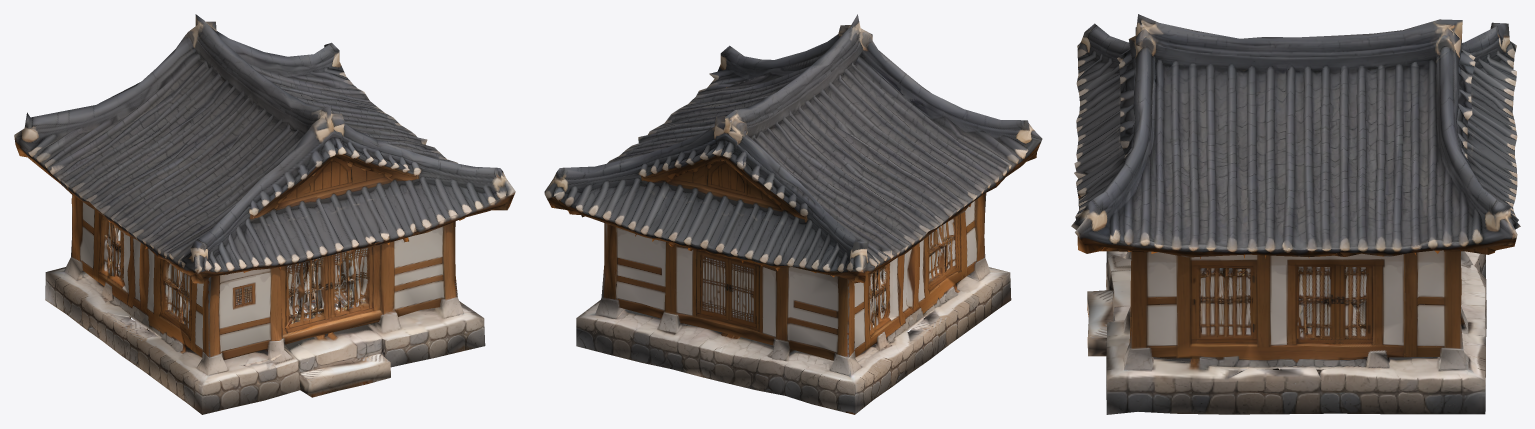
The model's file is house_giwa.glb.
3 views of the same model, side by side, from view 1: azimuth 30°, elevation 25°; view 2: azimuth 150°, elevation 25°; view 3: azimuth 270°, elevation 25° (orthographic). The views are drawn at different scales.
Visible parts, largest first — view 1: texture_mapping; view 2: texture_mapping; view 3: texture_mapping.
Boxes of the visible parts, x1,y1,x2,y2 form: texture_mapping: (14, 14, 515, 414); texture_mapping: (544, 14, 1042, 414); texture_mapping: (1071, 14, 1520, 414).
Bounding box in the file's own units: 1 × 0.7883 × 1.
1 material, 1 textured.
